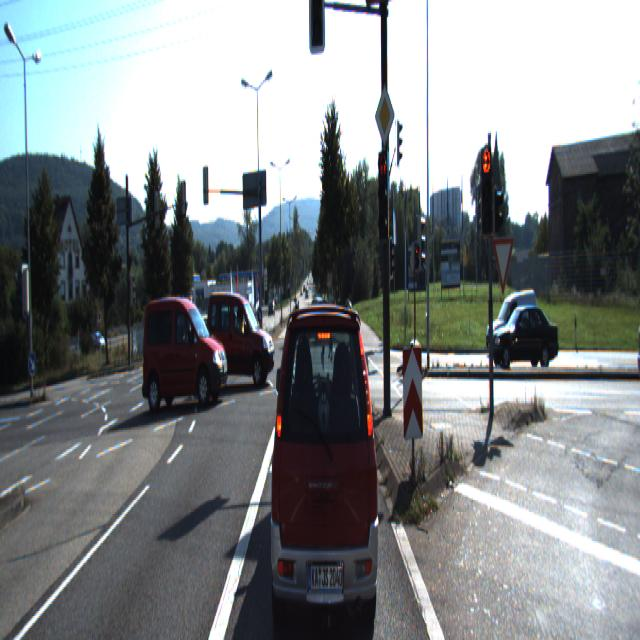Car: (267, 277, 381, 636), (488, 298, 560, 373), (485, 288, 538, 356), (194, 314, 247, 368), (172, 320, 193, 356), (195, 316, 215, 350), (218, 310, 238, 344)
DontCare: (81, 318, 107, 354)
Van: (141, 298, 229, 418), (205, 289, 274, 391)
